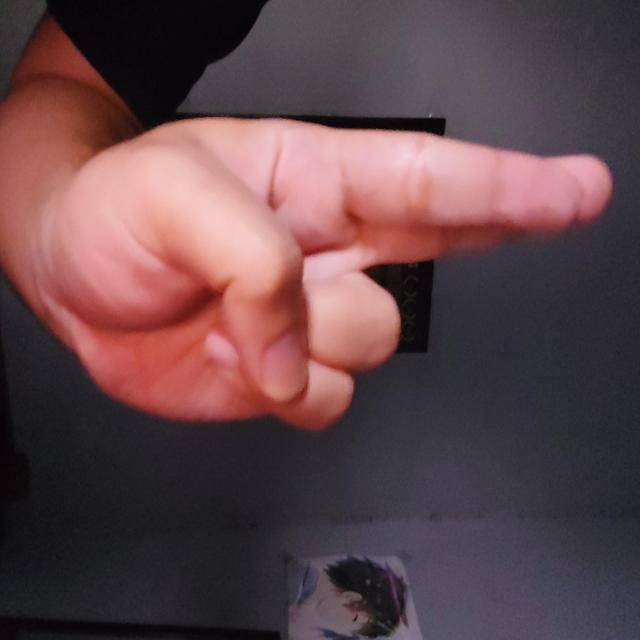R: (118, 19, 424, 603)
